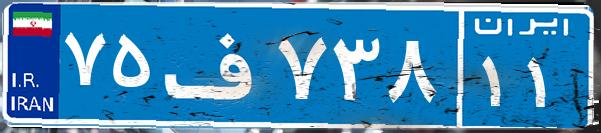1: (475, 38, 525, 113), (525, 38, 570, 115)
3: (330, 28, 385, 110)
5: (110, 28, 158, 105)
7: (273, 28, 330, 110), (57, 26, 110, 107)
8: (385, 28, 445, 110)
ف: (158, 15, 273, 115)
